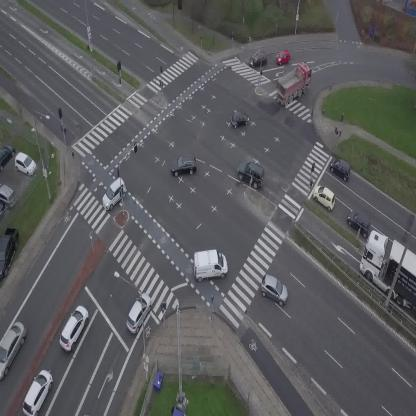car: (54, 303, 94, 353), (0, 319, 32, 381), (18, 367, 57, 416), (121, 290, 156, 335), (96, 176, 132, 212), (232, 157, 269, 191), (256, 273, 294, 306), (342, 208, 374, 238), (309, 183, 340, 211), (326, 154, 356, 181), (170, 154, 198, 176), (247, 50, 269, 67), (273, 48, 292, 66), (231, 111, 250, 128)
lorry: (268, 59, 321, 108), (191, 248, 229, 283)
